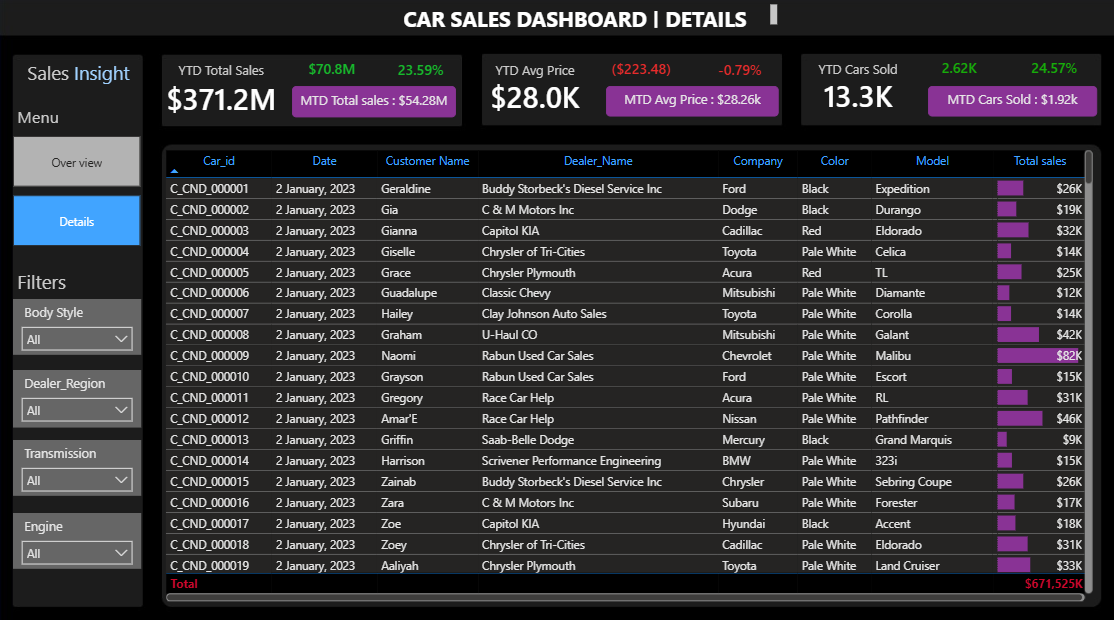

What the dashboard file says about the page in this screenshot:
{"tool":"powerbi","page":{"name":"Details","canvas":[1280,720],"ordinal":1},"visuals":[{"type":"card","title":"YTD Total Sales","fields":{"Values":["car_data.YTD Total sales"]},"box":[178.8,69.7,152,66.1],"z":0},{"type":"card","fields":{"Values":["car_data.Sales Difference"]},"box":[332.6,63.4,97.9,34.6],"z":1000},{"type":"card","fields":{"Values":["car_data.YOY Growth Sales"]},"box":[434.9,64.8,97.9,33.1],"z":2000},{"type":"card","fields":{"Values":["car_data.MTD KPI"]},"box":[336.1,98.3,187.7,35.8],"z":3000},{"type":"card","title":"YTD Avg Price","fields":{"Values":["car_data.YTD avg price"]},"box":[532.7,69.7,162.7,62.6],"z":4000},{"type":"card","fields":{"Values":["car_data.Avg price diff"]},"box":[688.4,64.5,96.8,33.8],"z":5000},{"type":"card","fields":{"Values":["car_data.YOY price growth"]},"box":[801,64.8,96.2,33.4],"z":6000},{"type":"card","fields":{"Values":["car_data.MTD avg price KPI"]},"box":[696.1,98.3,198.2,35.3],"z":7000},{"type":"card","title":"YTD Cars Sold","fields":{"Values":["car_data.YTD Cars sold"]},"box":[903.5,69.1,162.9,63],"z":8000},{"type":"card","fields":{"Values":["car_data.cars sold diff"]},"box":[1052.6,63,96.8,33.8],"z":9000},{"type":"card","fields":{"Values":["car_data.YOY cars sold growth"]},"box":[1161.7,63,96.8,33.8],"z":10000},{"type":"card","fields":{"Values":["car_data.MTD Cars solds KPI"]},"box":[1064.9,98.3,193.6,35.3],"z":11000},{"type":"textbox","box":[432,0,465.1,37.4],"z":12000},{"type":"slicer","fields":{"Values":["car_data.Body Style"]},"box":[16.1,343.2,146.6,64.4],"z":13000},{"type":"slicer","fields":{"Values":["car_data.Dealer_Region"]},"box":[16.1,423.7,146.6,66.1],"z":14000},{"type":"slicer","fields":{"Values":["car_data.Transmission"]},"box":[16.1,504.1,146.6,64.4],"z":15000},{"type":"slicer","fields":{"Values":["car_data.Engine"]},"box":[16.1,588.2,146.6,64.4],"z":16000},{"type":"textbox","box":[16.1,303.9,73.3,39.3],"z":17000},{"type":"tableEx","fields":{"Values":["car_data.Car_id","car_data.Date","car_data.Customer Name","car_data.Dealer_Name","car_data.Company","car_data.Color","car_data.Model","car_data.Price ($)"]},"box":[185.8,167,1072.8,527],"z":18000},{"type":"textbox","box":[16.1,64.4,150.2,39.3],"z":19000},{"type":"textbox","box":[16.1,116.2,73.3,39.3],"z":20000},{"type":"pageNavigator","box":[16.1,155.5,146.6,126.9],"z":21000}]}

Visuals, with their boxes on the page's 1280x720 design canvas (x1, y1, x2, y2). These are canvas units, not pixel positions in the 1114x620 screenshot, which may show the page scaled, cropped or inside an application window:
"YTD Total Sales" card: BBox(179, 70, 331, 136)
card - car_data.Sales Difference: BBox(333, 63, 430, 98)
card - car_data.YOY Growth Sales: BBox(435, 65, 533, 98)
card - car_data.MTD KPI: BBox(336, 98, 524, 134)
"YTD Avg Price" card: BBox(533, 70, 695, 132)
card - car_data.Avg price diff: BBox(688, 64, 785, 98)
card - car_data.YOY price growth: BBox(801, 65, 897, 98)
card - car_data.MTD avg price KPI: BBox(696, 98, 894, 134)
"YTD Cars Sold" card: BBox(904, 69, 1066, 132)
card - car_data.cars sold diff: BBox(1053, 63, 1149, 97)
card - car_data.YOY cars sold growth: BBox(1162, 63, 1258, 97)
card - car_data.MTD Cars solds KPI: BBox(1065, 98, 1258, 134)
textbox: BBox(432, 0, 897, 37)
slicer - car_data.Body Style: BBox(16, 343, 163, 408)
slicer - car_data.Dealer_Region: BBox(16, 424, 163, 490)
slicer - car_data.Transmission: BBox(16, 504, 163, 568)
slicer - car_data.Engine: BBox(16, 588, 163, 653)
textbox: BBox(16, 304, 89, 343)
tableEx - car_data.Car_id x car_data.Date: BBox(186, 167, 1259, 694)
textbox: BBox(16, 64, 166, 104)
textbox: BBox(16, 116, 89, 156)
pageNavigator: BBox(16, 156, 163, 282)
